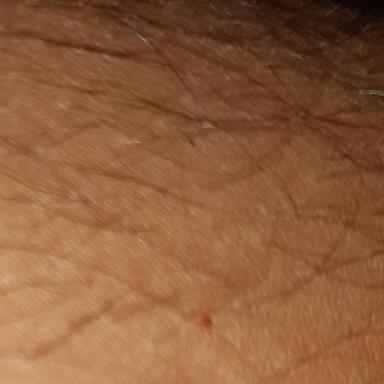normal skin: (0, 2, 384, 382)
